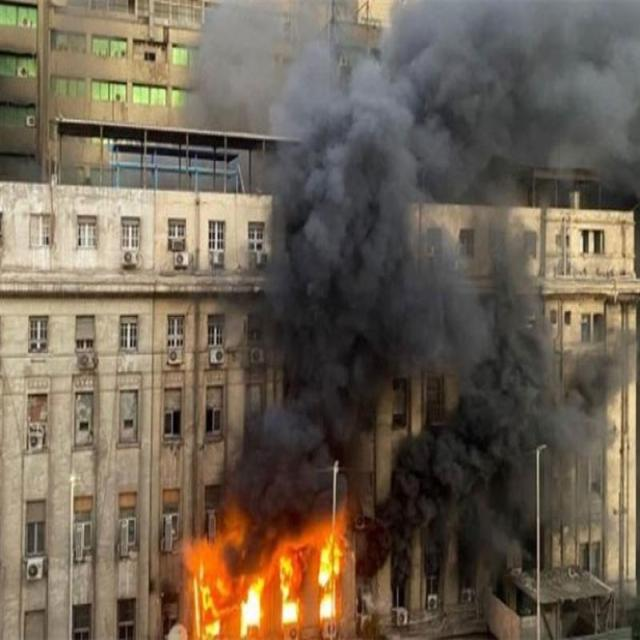fire: (186, 511, 344, 639), (318, 532, 342, 621), (280, 550, 301, 626), (241, 578, 264, 637)
smoke: (194, 24, 598, 438)
